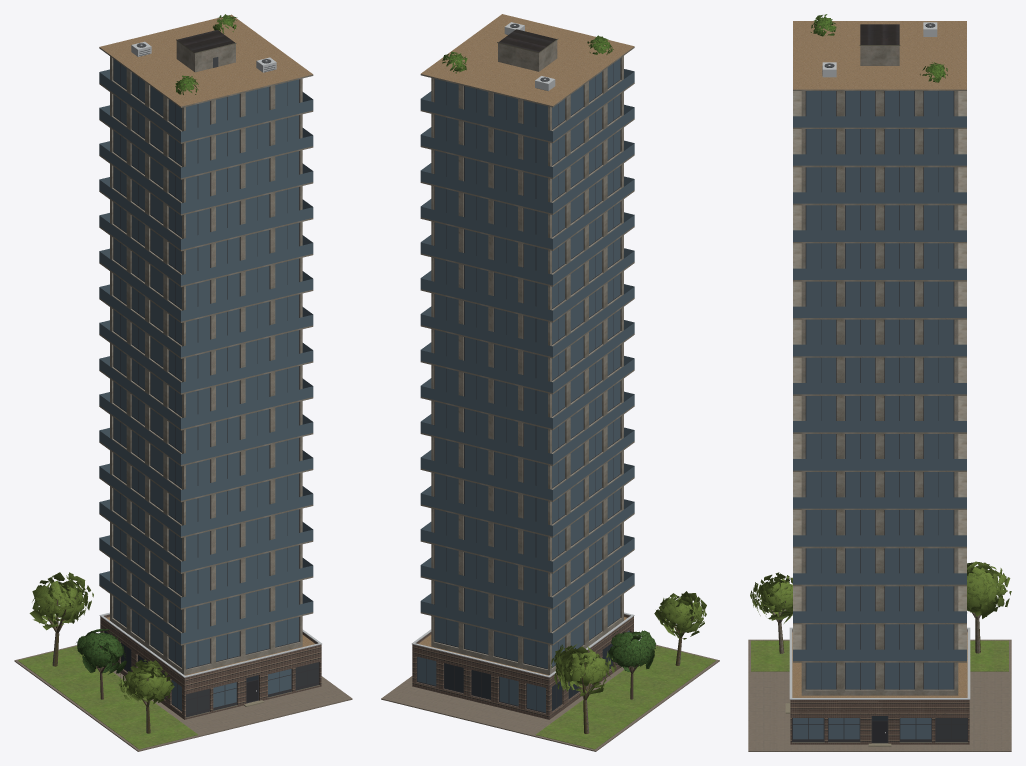
Rendered from tower_glass_balcony.glb.
The picture shows the model from 3 angles, left to right: view 1: azimuth 30°, elevation 25°; view 2: azimuth 150°, elevation 25°; view 3: azimuth 270°, elevation 25°; orthographic projection. The views are drawn at different scales.
Visible parts, largest first — view 1: tower_glass_balcony_body, tower_glass_balcony_foliage; view 2: tower_glass_balcony_body, tower_glass_balcony_foliage; view 3: tower_glass_balcony_body, tower_glass_balcony_foliage.
Boxes of the visible parts, bbox=[...] form: tower_glass_balcony_body: bbox=[14, 14, 352, 751]; tower_glass_balcony_foliage: bbox=[29, 14, 237, 703]; tower_glass_balcony_body: bbox=[381, 14, 719, 751]; tower_glass_balcony_foliage: bbox=[442, 35, 706, 696]; tower_glass_balcony_body: bbox=[748, 21, 1011, 751]; tower_glass_balcony_foliage: bbox=[750, 14, 1011, 623].
Bounding box in the file's own units: 0.94 × 2.65 × 0.94.
Materials: 23 (14 with a texture image).
